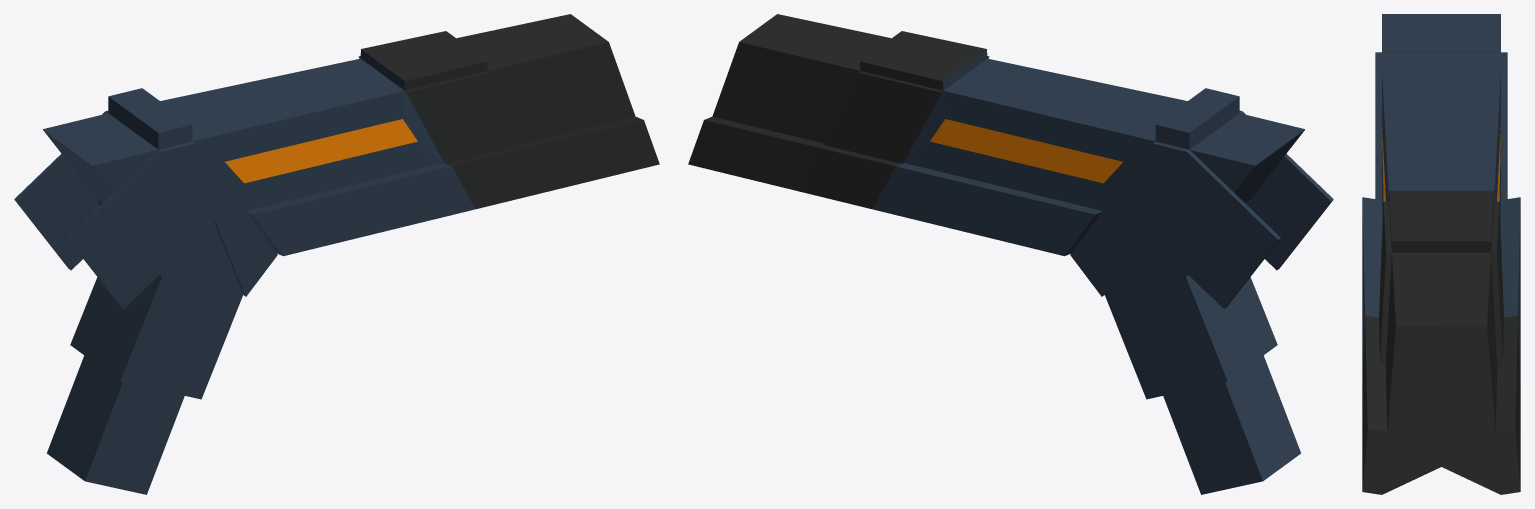
Rendered from pistol color.fbx.
The picture shows the model from 3 angles, left to right: view 1: azimuth 30°, elevation 25°; view 2: azimuth 150°, elevation 25°; view 3: azimuth 270°, elevation 25°; orthographic projection. The views are drawn at different scales.
Parts seen in each view (by area): view 1: Cube; view 2: Cube; view 3: Cube.
Part boxes in pixels (x1=…): Cube: x1=14, y1=14, x2=659, y2=494; Cube: x1=688, y1=14, x2=1333, y2=494; Cube: x1=1362, y1=14, x2=1520, y2=494.
Size of the model in its own units: 931 by 555 by 183.
